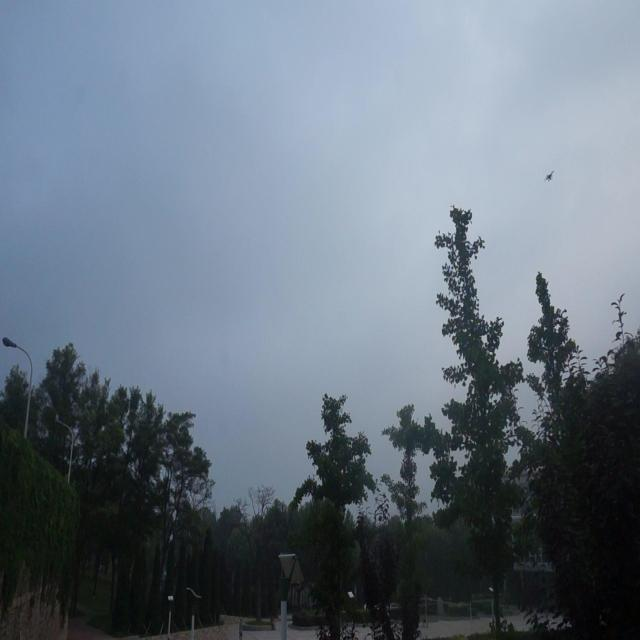drone: (543, 165, 555, 188)
